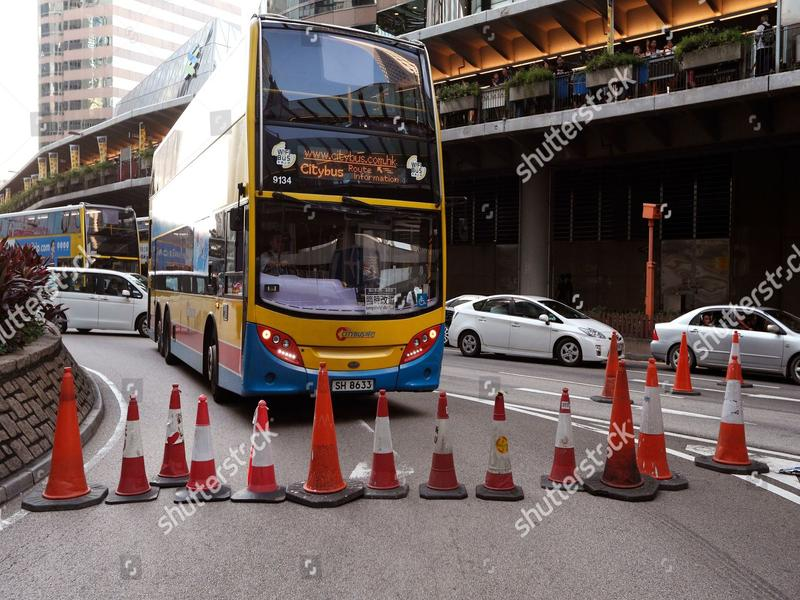Cone: (20, 366, 108, 513), (285, 362, 366, 510), (664, 332, 703, 397)
